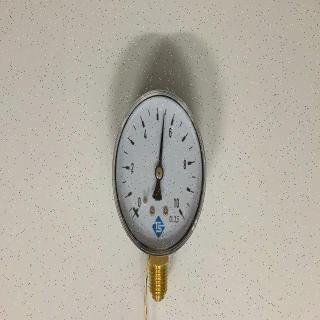gauge: (108, 80, 210, 284), (168, 196, 192, 224), (124, 202, 146, 225), (154, 167, 164, 179), (161, 111, 167, 121)
